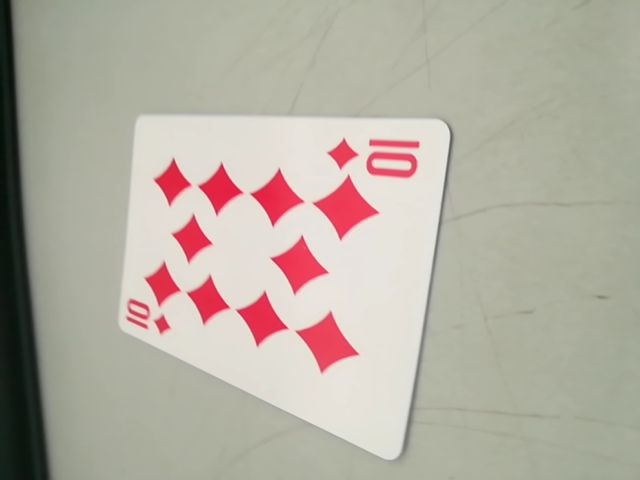fk 10: (324, 127, 429, 181), (117, 295, 178, 343)
